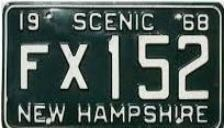1: (105, 33, 127, 101)
2: (175, 34, 213, 100)
5: (134, 32, 172, 100)
F: (17, 42, 54, 92)
X: (57, 42, 90, 91)
